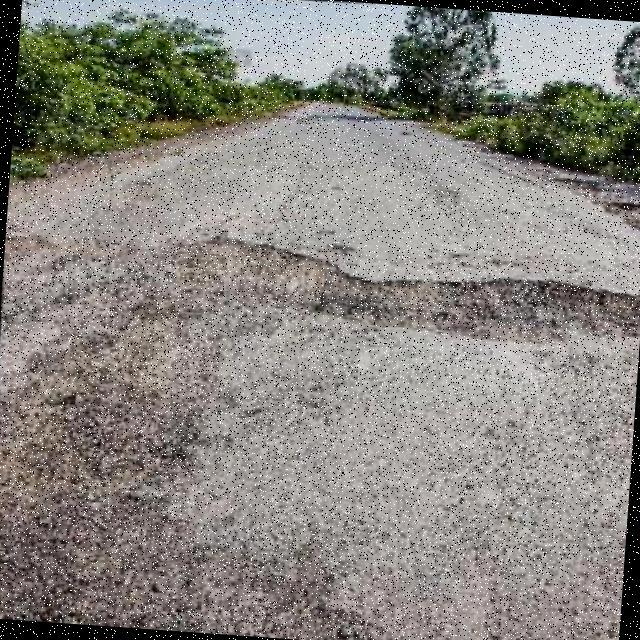Pothole: (204, 237, 640, 345)
